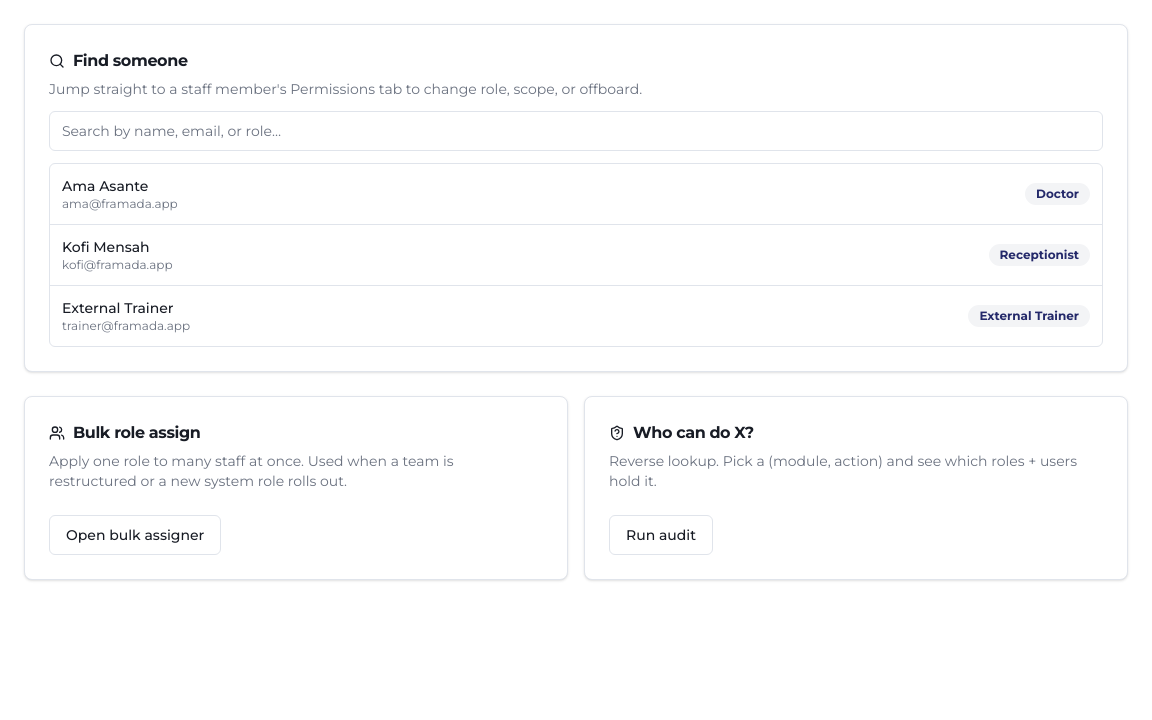
Test: AccessManagementOverviewPage — search filtering › filters staff by email
Check: the link "Kofi Mensah kofi@framada.app receptionist" is shown, box x1=62 y1=238 x2=1090 y2=272
Check: the link "Ama Asante ama@framada.app doctor" is shown, box x1=62 y1=177 x2=1090 y2=211
Step 1. Type "kofi@" into the field with placeholder "Search by name, email, or role…" → (576, 131), box x1=49 y1=111 x2=1103 y2=151
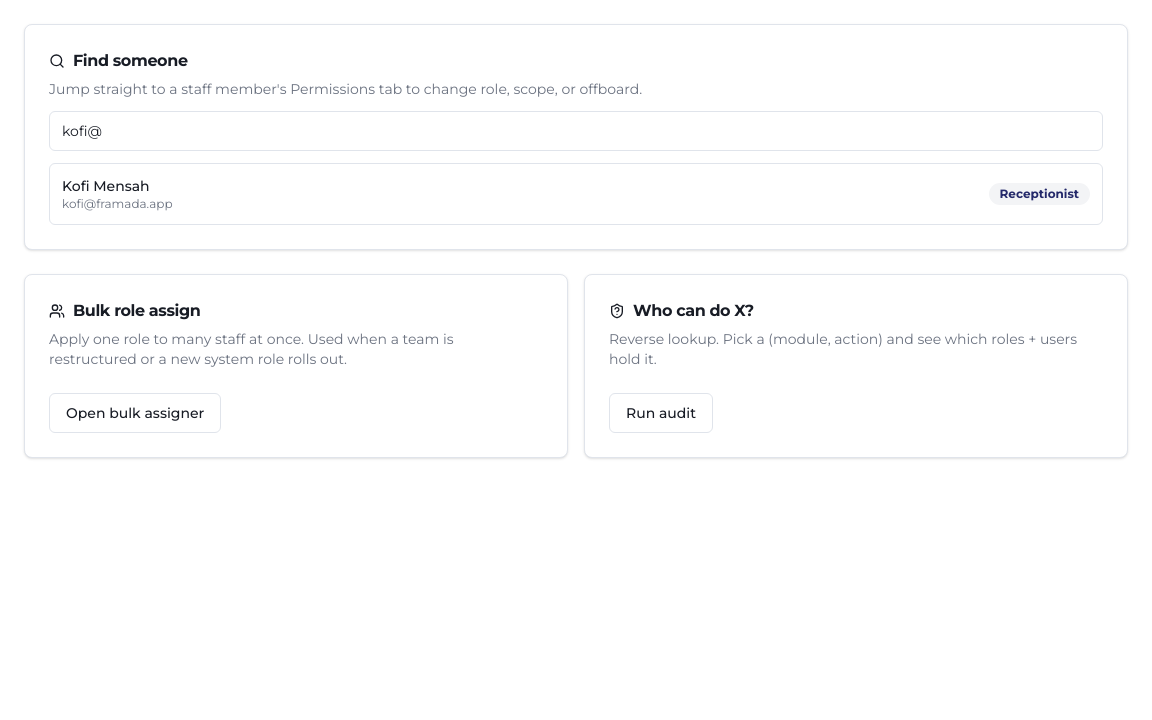
Check: the link "Kofi Mensah kofi@framada.app receptionist" is shown, box x1=62 y1=177 x2=1090 y2=211
Check: the link "Ama Asante" is gone
